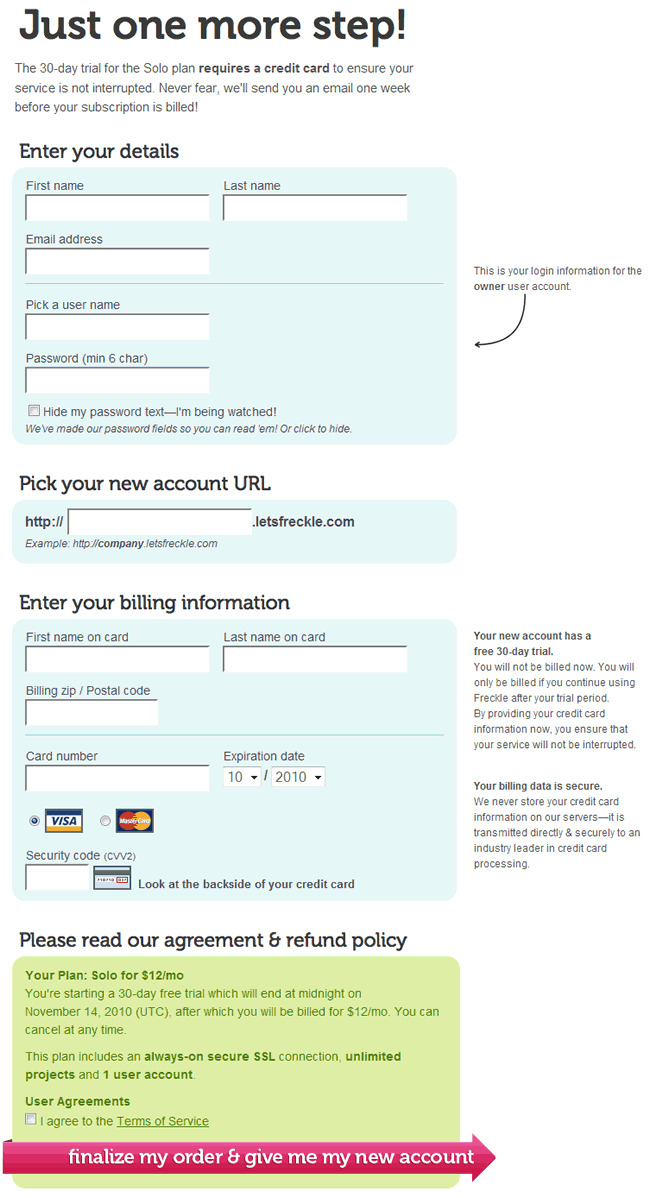_form_: (14, 494, 430, 911), (10, 164, 426, 580)
checkbox: (23, 1107, 41, 1130), (25, 400, 45, 419)
checkbox_with_label: (22, 399, 281, 420), (20, 1107, 210, 1133)
field: (23, 364, 210, 397), (23, 190, 210, 222), (221, 191, 408, 223), (18, 643, 211, 674), (23, 244, 210, 275), (24, 762, 211, 793), (220, 644, 409, 674), (22, 312, 211, 341), (65, 508, 254, 536), (21, 698, 160, 728), (24, 864, 91, 893)
field_with_label: (20, 353, 213, 399), (18, 299, 215, 343), (21, 751, 213, 796), (15, 632, 211, 676), (220, 180, 411, 225), (20, 180, 212, 224), (20, 234, 212, 277), (24, 505, 257, 536), (18, 686, 163, 729), (221, 751, 327, 791), (21, 851, 102, 895)
radio: (30, 807, 41, 831), (96, 815, 111, 827)
select: (269, 766, 325, 789), (223, 767, 263, 789)
